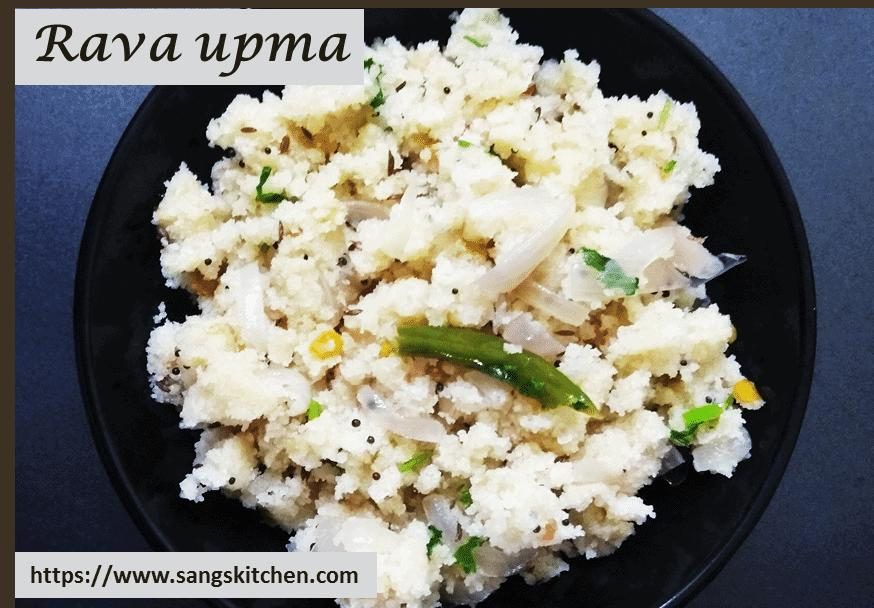upma: (142, 14, 763, 608)
